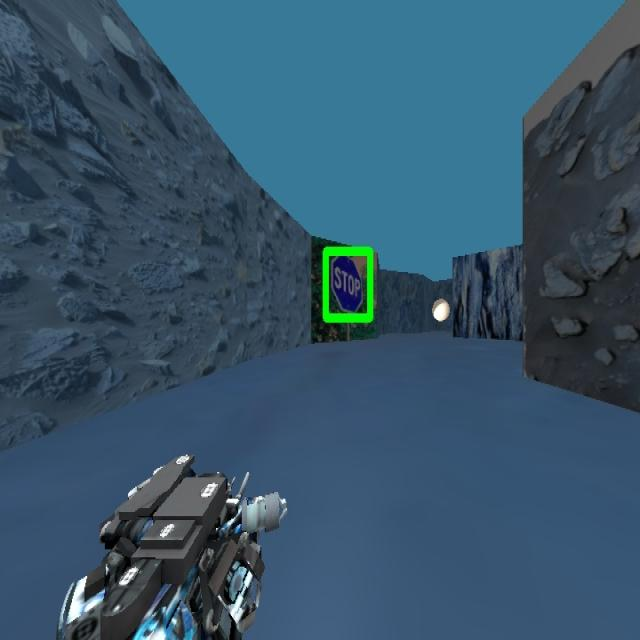Circle: (431, 298, 450, 322)
Stop_Sign: (321, 244, 374, 324)
